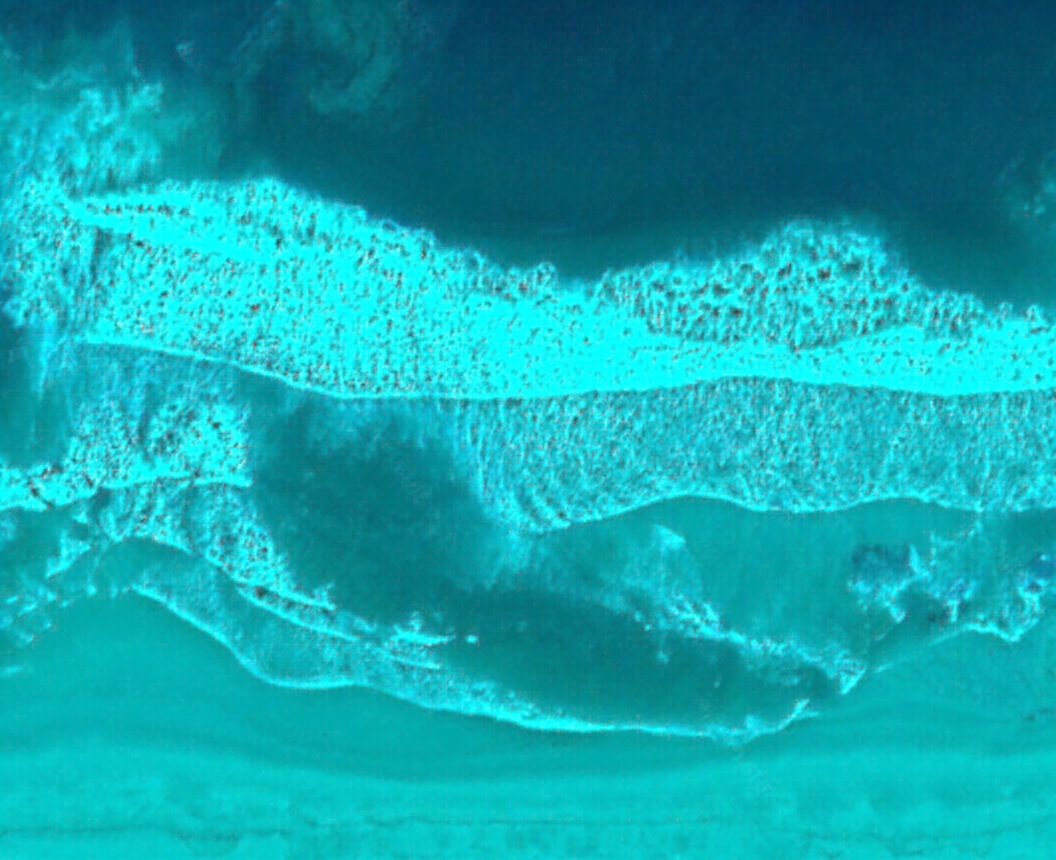rip_current: (208, 345, 764, 692)
